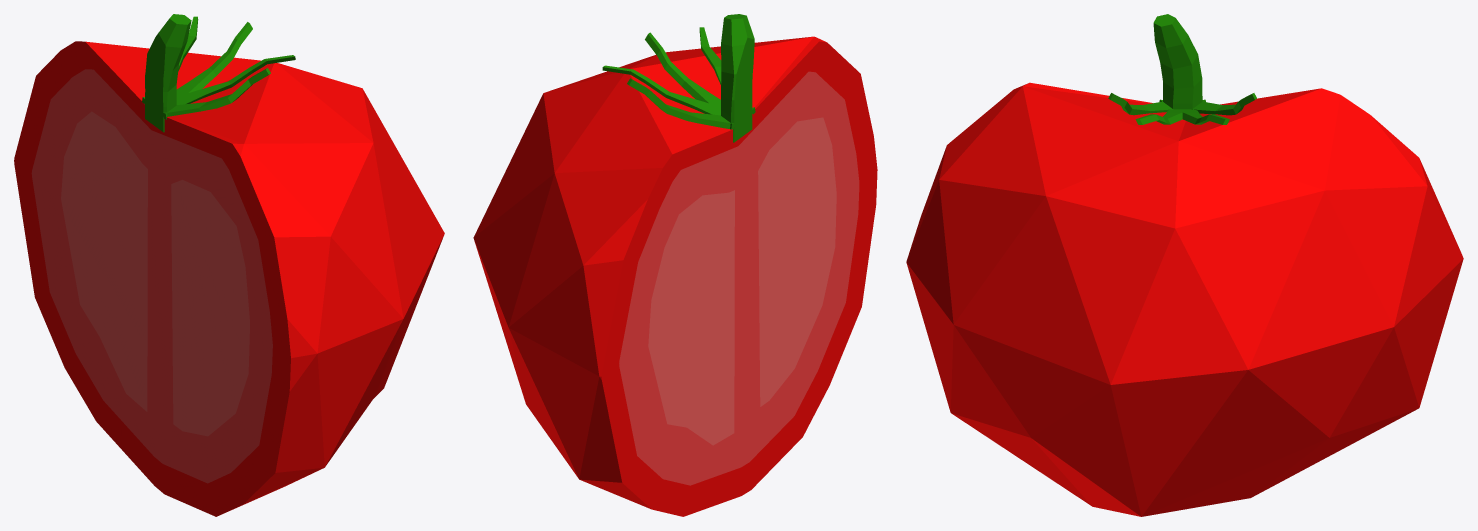
Rendered from TomatoCut2.fbx.
3 views of the same model, side by side, from view 1: azimuth 30°, elevation 25°; view 2: azimuth 150°, elevation 25°; view 3: azimuth 270°, elevation 25° (orthographic).
Visible parts, largest first — view 1: Icosphere, Cylinder.001, Cylinder; view 2: Icosphere, Cylinder.001, Cylinder; view 3: Icosphere, Cylinder, Cylinder.001.
Boxes of the visible parts, x1,y1,x2,y2 form: Icosphere: [14, 41, 444, 516]; Cylinder.001: [142, 16, 295, 119]; Cylinder: [145, 14, 191, 132]; Icosphere: [473, 36, 877, 516]; Cylinder.001: [602, 27, 755, 129]; Cylinder: [721, 14, 754, 142]; Icosphere: [906, 82, 1463, 516]; Cylinder: [1153, 14, 1202, 109]; Cylinder.001: [1108, 93, 1256, 124].
Bounding box in the file's own units: 180 × 320 × 344.
